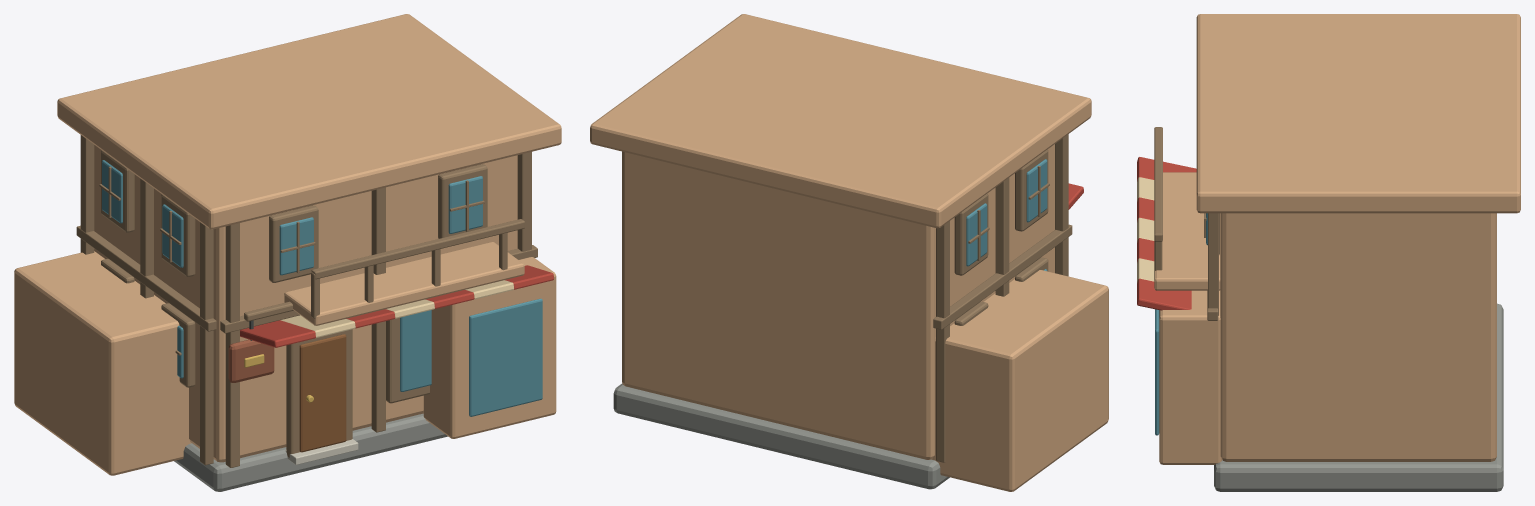
The model's file is arid-merchant-2.glb.
3 views of the same model, side by side, from view 1: azimuth 30°, elevation 25°; view 2: azimuth 150°, elevation 25°; view 3: azimuth 270°, elevation 25° (orthographic). The views are drawn at different scales.
Parts seen in each view (by area): view 1: Adobe cream, Palm beams, Adobe fieldstone, Blue glass, Adobe wood, Foundation stone, Door oak, Market red cloth, Market cream cloth, Painted sign, Cut limestone; view 2: Adobe cream, Adobe fieldstone, Palm beams, Foundation stone, Blue glass; view 3: Adobe cream, Foundation stone, Adobe wood, Market red cloth, Palm beams, Market cream cloth, Blue glass.
Boxes of the visible parts, x1=… form: Adobe cream: x1=57, y1=14, x2=561, y2=462; Palm beams: x1=76, y1=135, x2=537, y2=467; Adobe fieldstone: x1=14, y1=251, x2=191, y2=475; Blue glass: x1=102, y1=160, x2=542, y2=416; Adobe wood: x1=284, y1=242, x2=524, y2=325; Foundation stone: x1=174, y1=413, x2=447, y2=491; Door oak: x1=299, y1=334, x2=346, y2=452; Market red cloth: x1=240, y1=265, x2=553, y2=347; Market cream cloth: x1=280, y1=280, x2=513, y2=337; Painted sign: x1=228, y1=339, x2=274, y2=382; Cut limestone: x1=285, y1=439, x2=358, y2=464; Adobe cream: x1=590, y1=14, x2=1091, y2=459; Adobe fieldstone: x1=932, y1=270, x2=1108, y2=491; Palm beams: x1=933, y1=134, x2=1072, y2=462; Foundation stone: x1=613, y1=383, x2=949, y2=489; Blue glass: x1=966, y1=159, x2=1047, y2=270; Adobe cream: x1=1159, y1=14, x2=1520, y2=464; Foundation stone: x1=1214, y1=303, x2=1503, y2=491; Adobe wood: x1=1154, y1=172, x2=1220, y2=290; Market red cloth: x1=1137, y1=157, x2=1196, y2=310; Palm beams: x1=1154, y1=127, x2=1219, y2=320; Market cream cloth: x1=1137, y1=177, x2=1154, y2=283; Blue glass: x1=1155, y1=213, x2=1207, y2=435.
Bounding box in the file's own units: 4.6 × 3.14 × 3.54.
